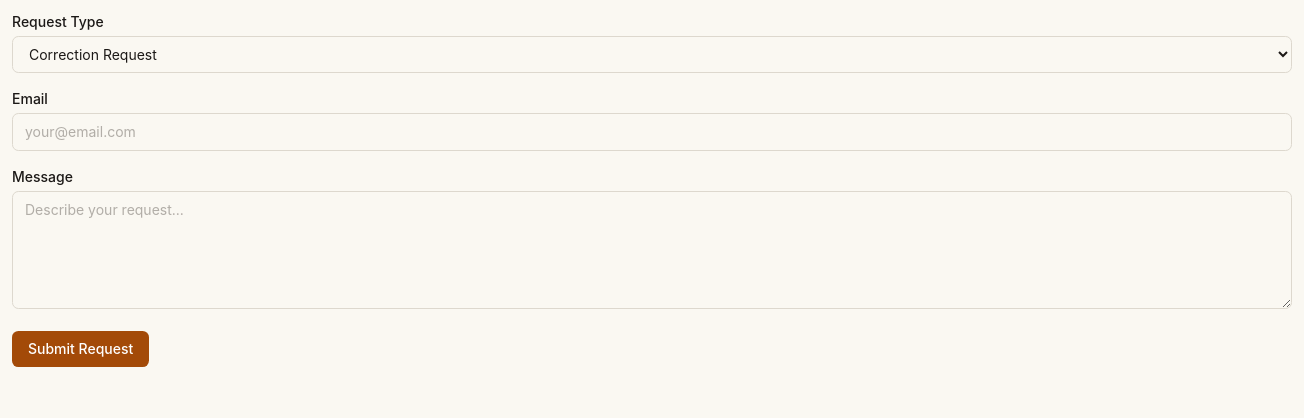
Scenario: ContactForm › shows success message after submission
In the field labelled "Email": (652, 132) top-left (12, 113), bottom-right (1292, 151), type "test@example.com"
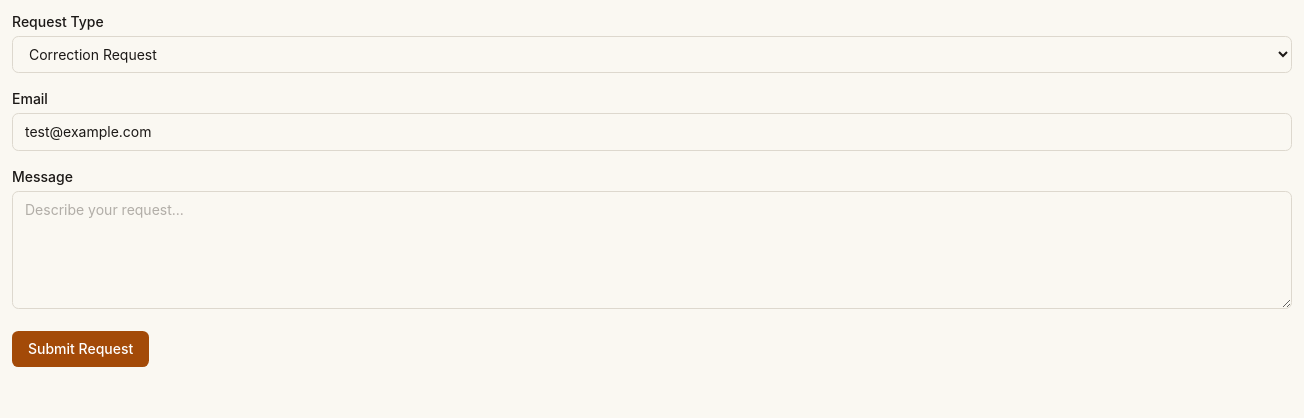
In the text box labelled "Message": (652, 250) top-left (12, 191), bottom-right (1292, 309), type "Test message content"
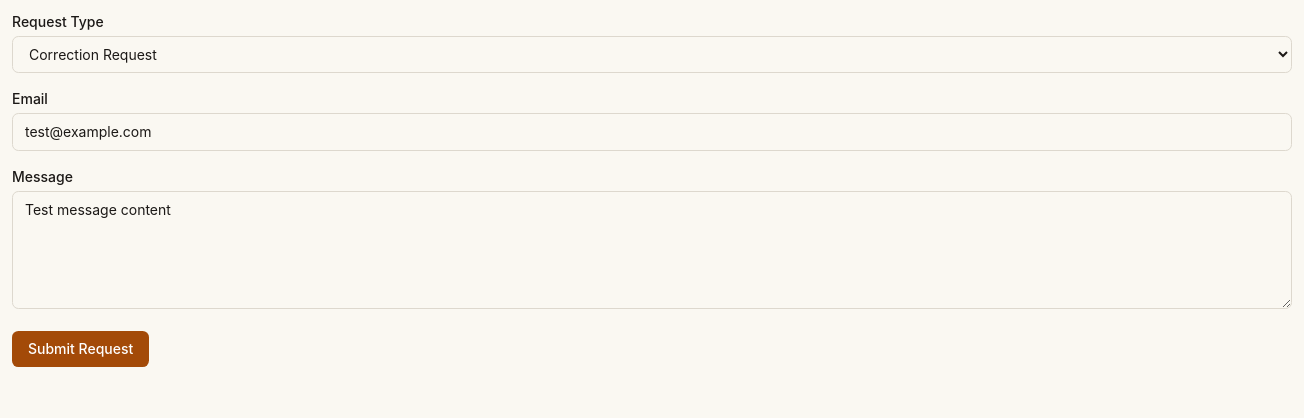
Click the button "Submit Request": (81, 349) top-left (12, 331), bottom-right (149, 367)
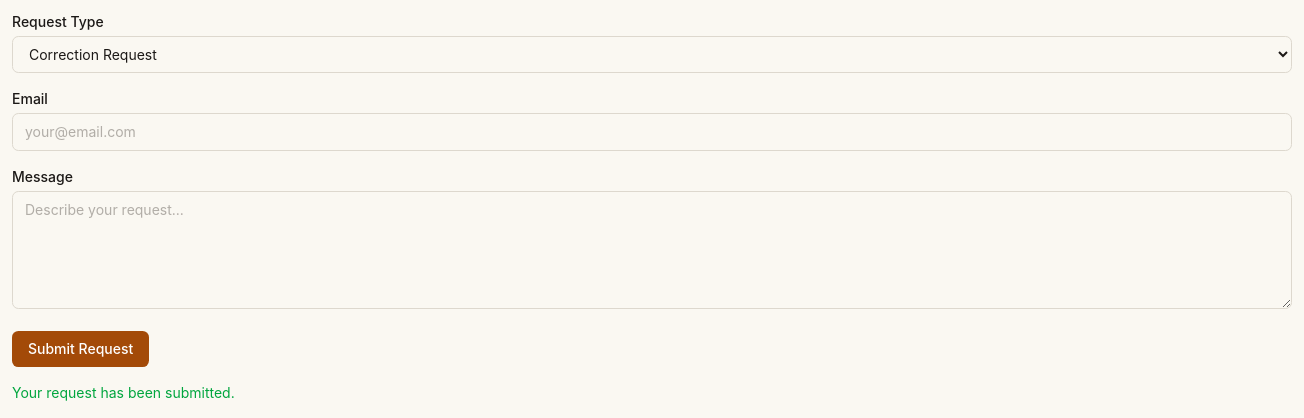
Now the message shows "submitted", box top-left (12, 384), bottom-right (235, 401)
